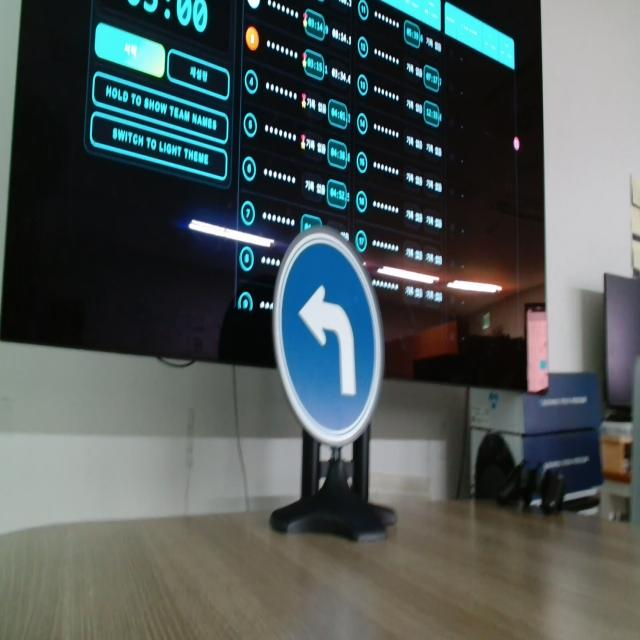left_direction: (278, 221, 405, 464)
